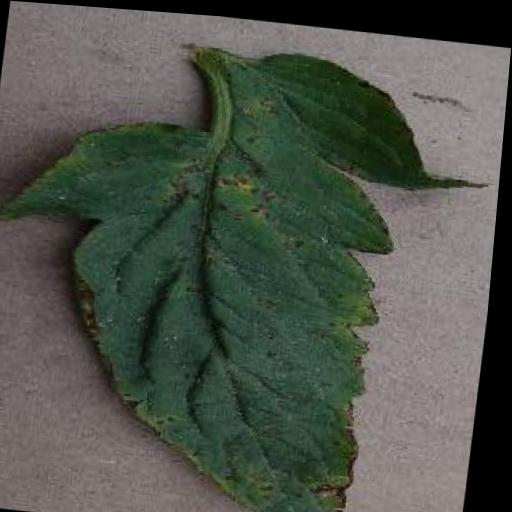Bacterial Spot: (0, 12, 506, 512)
